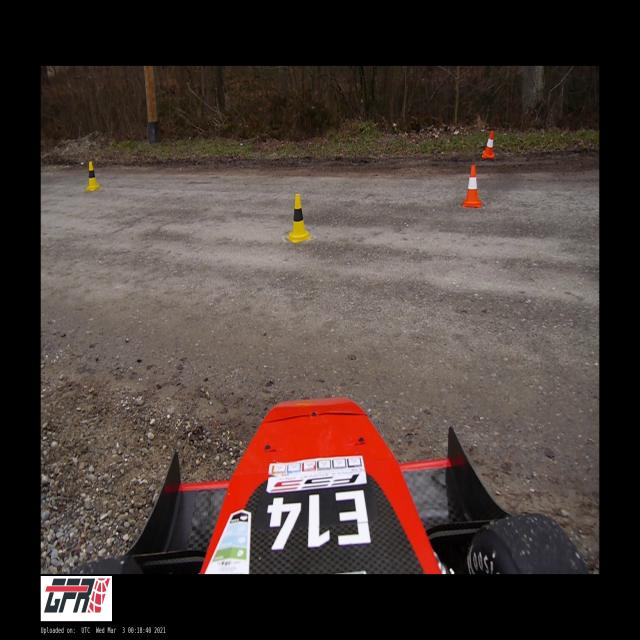orange_cone: (462, 165, 482, 208), (482, 131, 495, 160)
yellow_cone: (286, 194, 312, 243), (85, 162, 100, 192)
